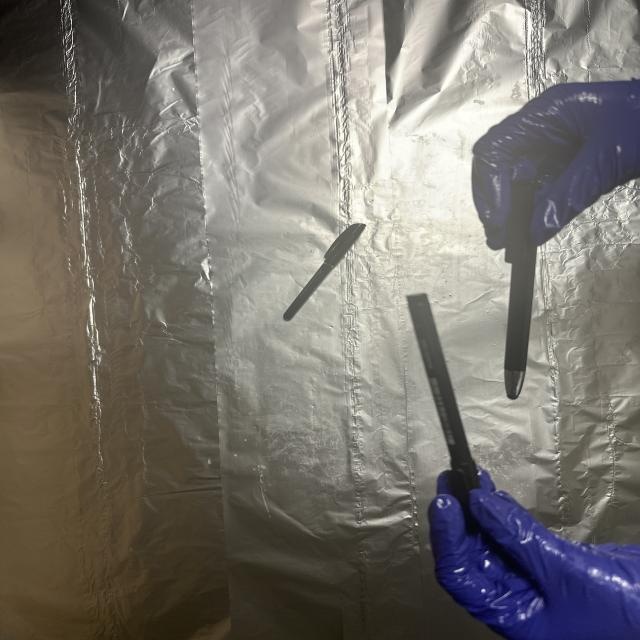gloves_contaminated: (428, 469, 640, 640), (472, 80, 640, 249)
